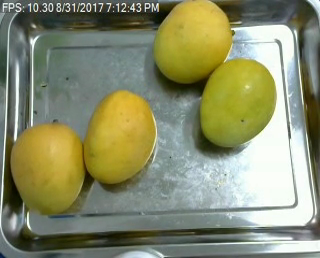Mango: (195, 51, 277, 153), (3, 117, 88, 215), (82, 88, 165, 183), (152, 3, 233, 90)
